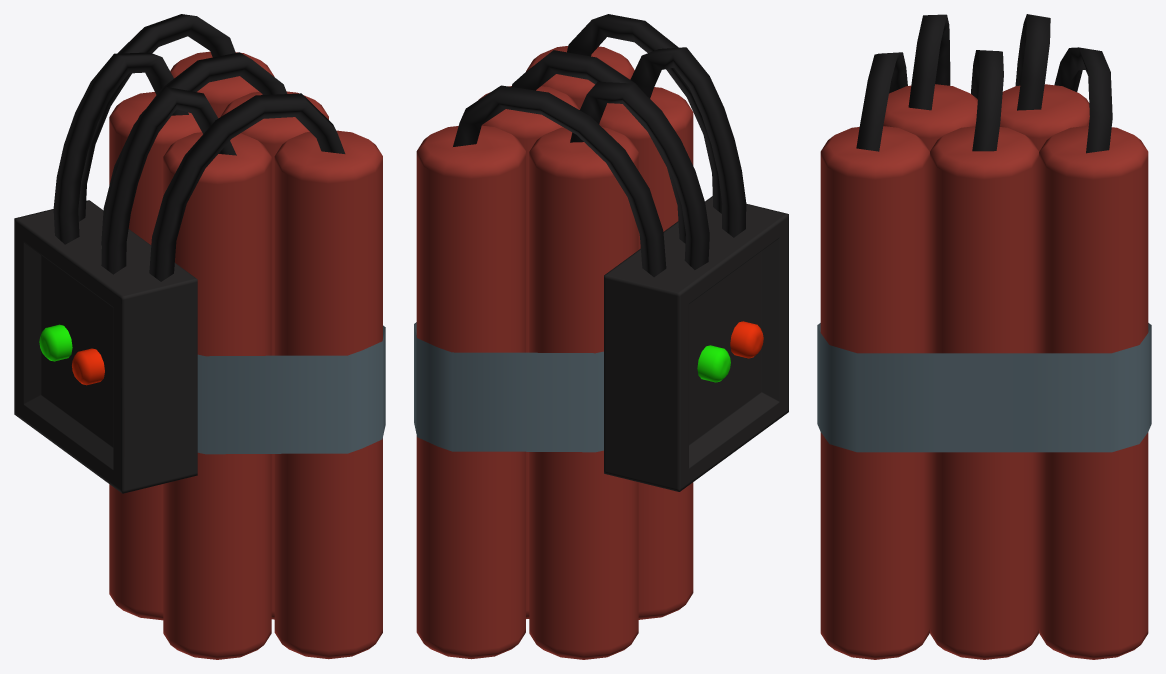
The model's file is DynamiteLed.fbx.
The picture shows the model from 3 angles, left to right: view 1: azimuth 30°, elevation 25°; view 2: azimuth 150°, elevation 25°; view 3: azimuth 270°, elevation 25°; orthographic projection.
Visible parts, largest first — view 1: tnt.003, Panel2, tnt.004, Tape, tnt.002, Wire.002, Wire.003, Wire.004, Wire, tnt, Wire.001, tnt.001 (+2 smaller); view 2: tnt.001, tnt.002, Panel2, Tape, tnt.004, Wire, Wire.004, Wire.003, Wire.002, tnt, Wire.001, tnt.003 (+2 smaller); view 3: tnt.003, tnt.001, tnt, Tape, tnt.004, tnt.002, Wire, Wire.004, Wire.001, Wire.002, Wire.003.
Part boxes in pixels (box(x1,y1,x2,y2)): tnt.003: box(274, 130, 382, 659); Panel2: box(14, 200, 197, 493); tnt.004: box(163, 132, 271, 659); Tape: box(197, 325, 385, 454); tnt.002: box(109, 92, 201, 620); Wire.002: box(149, 93, 345, 281); Wire.003: box(53, 52, 188, 244); Wire.004: box(101, 87, 236, 274); Wire: box(78, 14, 235, 221); tnt: box(220, 91, 328, 619); Wire.001: box(101, 52, 287, 245); tnt.001: box(170, 51, 274, 118); tnt.001: box(416, 125, 525, 659); tnt.002: box(529, 127, 638, 659); Panel2: box(604, 196, 788, 491); Tape: box(414, 322, 603, 452); tnt.004: box(599, 87, 693, 619); Wire: box(453, 85, 666, 277); Wire.004: box(630, 47, 746, 237); Wire.003: box(570, 81, 709, 269); Wire.002: box(567, 14, 722, 213); tnt: box(478, 86, 579, 618); Wire.001: box(511, 50, 685, 243); tnt.003: box(526, 46, 634, 109); tnt.003: box(820, 126, 929, 659); tnt.001: box(1039, 125, 1148, 659); tnt: box(930, 126, 1038, 659); Tape: box(817, 323, 1151, 452); tnt.004: box(883, 84, 977, 151); tnt.002: box(1000, 84, 1089, 151); Wire: box(1054, 47, 1112, 153); Wire.004: box(908, 14, 950, 110); Wire.001: box(971, 50, 1003, 151); Wire.002: box(856, 52, 907, 151); Wire.003: box(1015, 14, 1050, 110).
Size of the model in its own units: 13.92 by 28.42 by 15.28.
